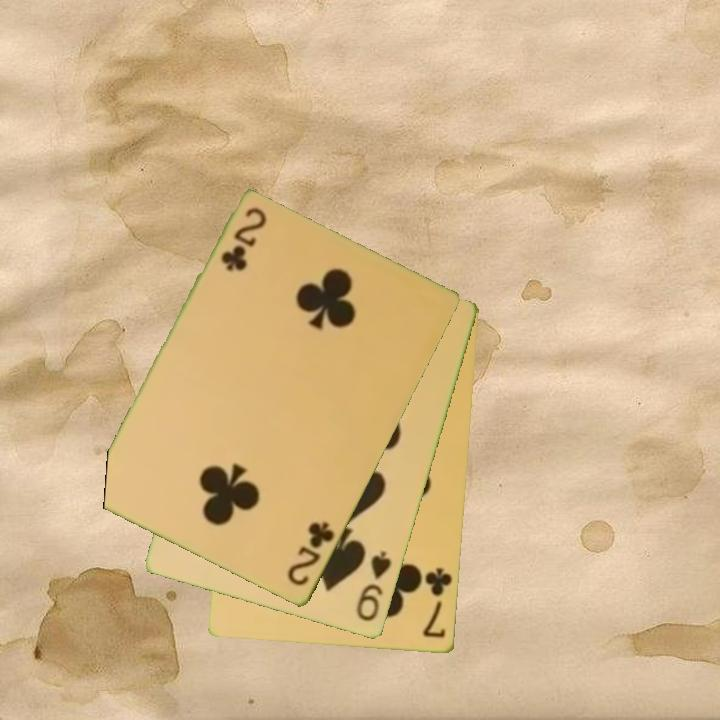2c: (284, 518, 338, 590), (217, 204, 269, 275)
7c: (420, 564, 455, 641)
9s: (353, 548, 395, 625)
